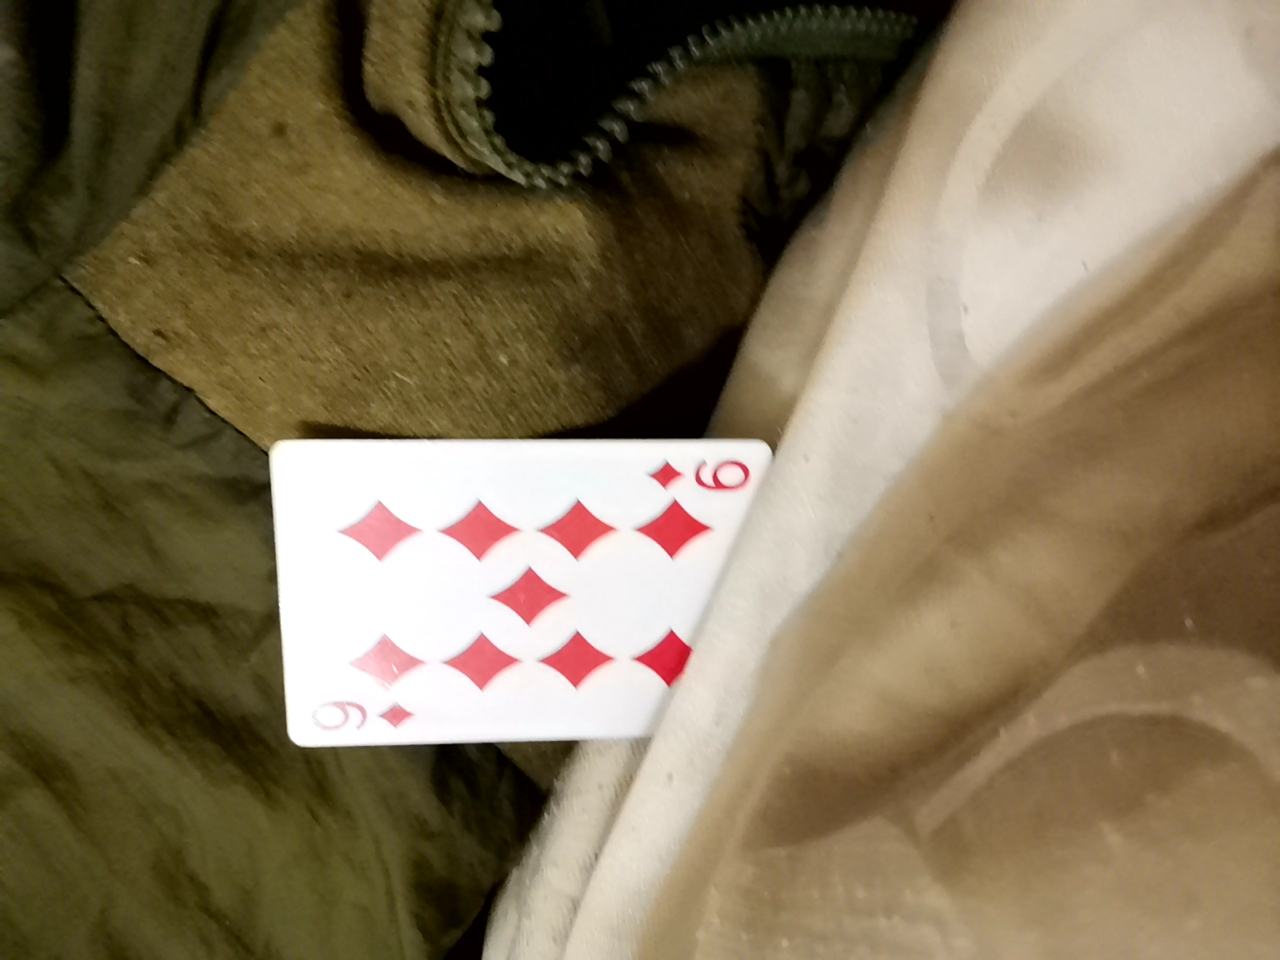fk 9: (278, 451, 781, 782)
